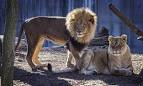lion: (17, 9, 97, 75), (79, 36, 133, 79)
